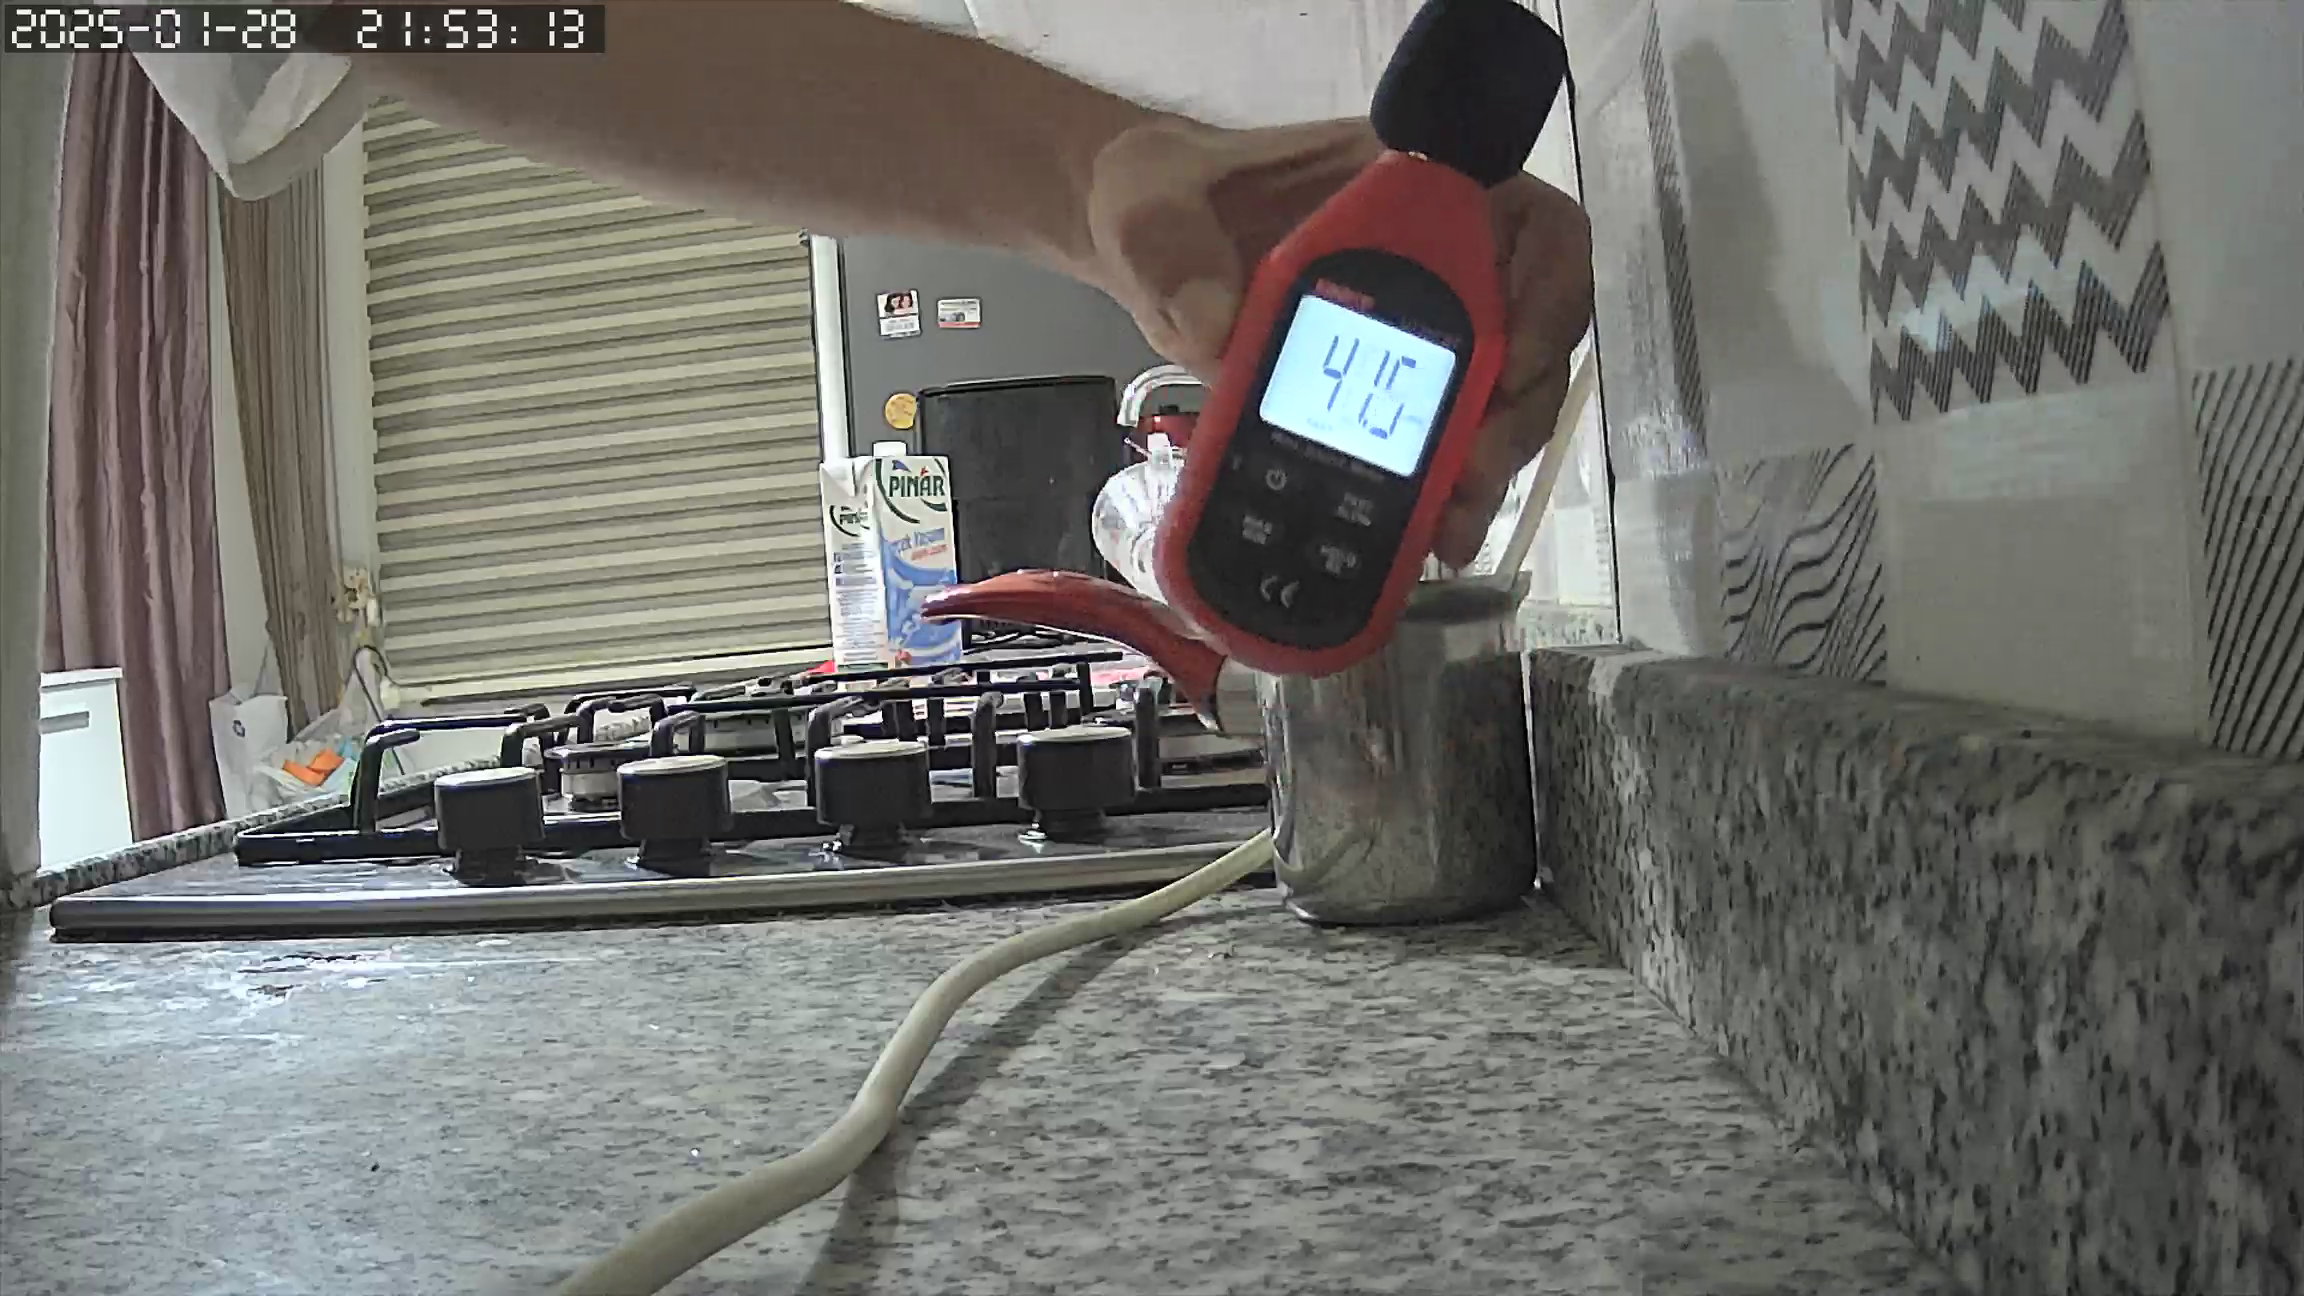screen: (1256, 290, 1456, 479)
